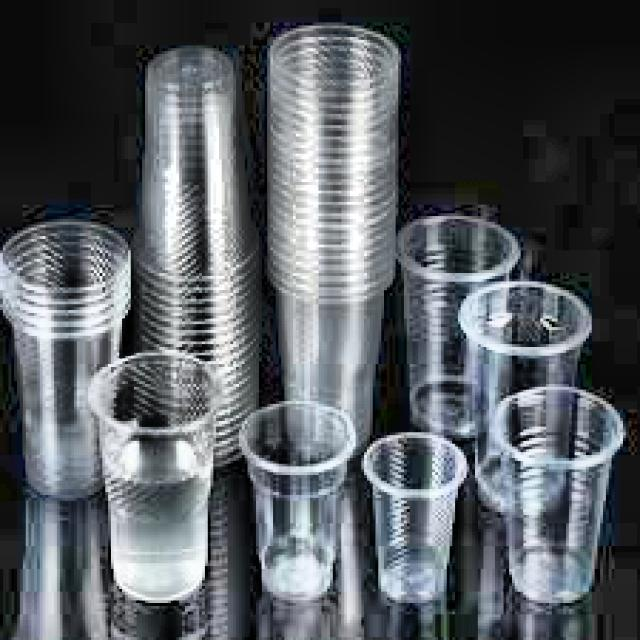plastic cup: (102, 348, 226, 614), (119, 51, 269, 263), (502, 383, 614, 608), (0, 317, 136, 492), (240, 403, 362, 597), (401, 221, 507, 430), (368, 435, 474, 602), (271, 291, 386, 439)
